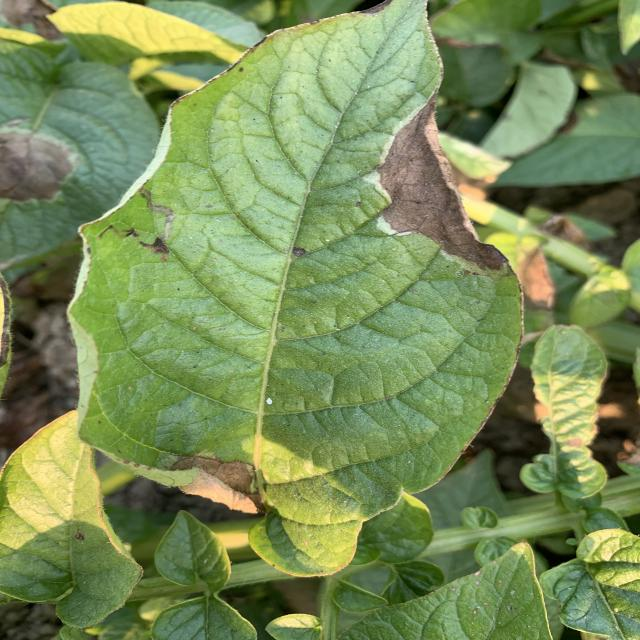lateblight: (377, 98, 507, 270), (170, 456, 262, 514)
